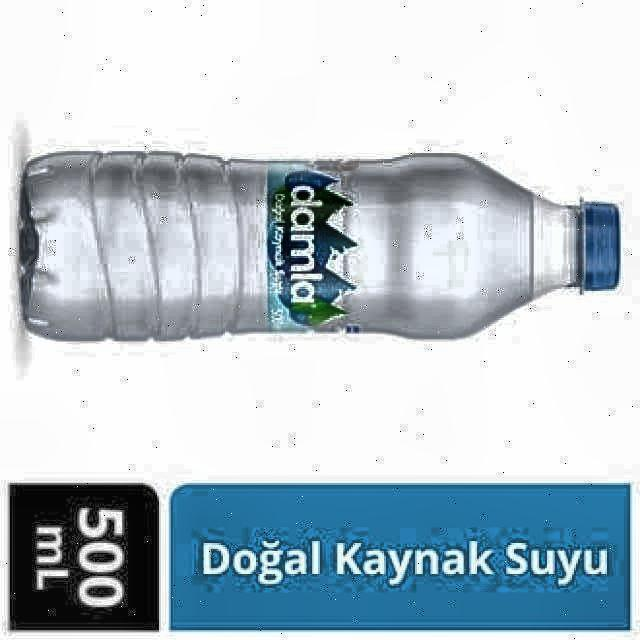plastic: (20, 152, 619, 340)
